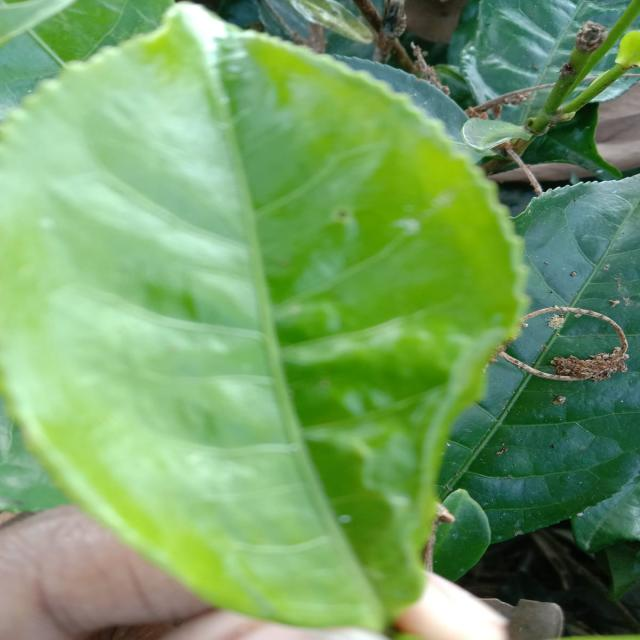Category B(2-4 days): (1, 1, 536, 638)
